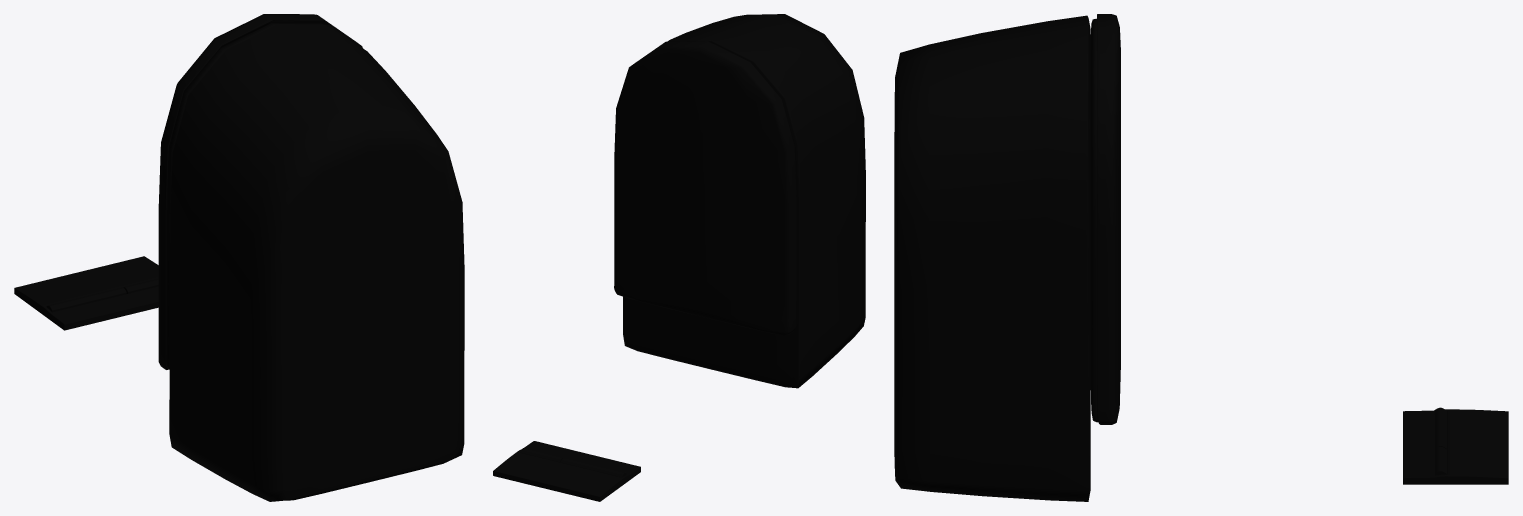
Rendered from bk_toilet.glb.
3 renders of one model, left to right at view 1: azimuth 30°, elevation 25°; view 2: azimuth 150°, elevation 25°; view 3: azimuth 270°, elevation 25°, orthographic. The views are drawn at different scales.
Visible parts, largest first — view 1: Toilet, Toilet FlushPlate, Cover.001, Seat.001; view 2: Cover.001, Toilet, Toilet FlushPlate; view 3: Toilet, Cover.001, Toilet FlushPlate, Seat.001.
Part boxes in pixels (bbox=[...]): Toilet: bbox=[169, 24, 464, 501]; Toilet FlushPlate: bbox=[14, 256, 158, 330]; Cover.001: bbox=[158, 14, 362, 369]; Seat.001: bbox=[166, 23, 323, 369]; Cover.001: bbox=[614, 41, 796, 335]; Toilet: bbox=[623, 14, 865, 388]; Toilet FlushPlate: bbox=[493, 441, 640, 501]; Toilet: bbox=[894, 15, 1090, 501]; Cover.001: bbox=[1097, 14, 1120, 424]; Toilet FlushPlate: bbox=[1403, 407, 1508, 484]; Seat.001: bbox=[1090, 18, 1097, 422].
Bounding box in the file's own units: 0.3974 × 0.7088 × 0.931.
Materials: 4 (4 with a texture image).
